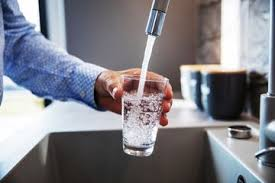air: (118, 87, 164, 155), (132, 32, 163, 103)
